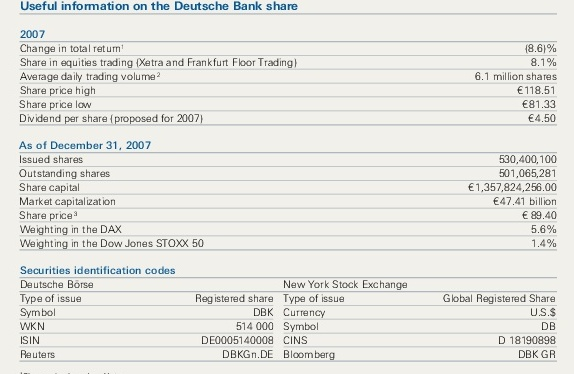table: (0, 0, 574, 374)
